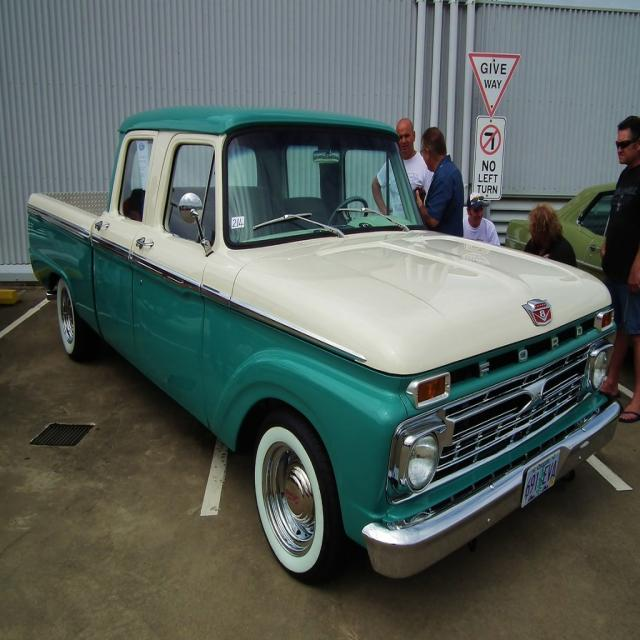car: (27, 101, 621, 582)
